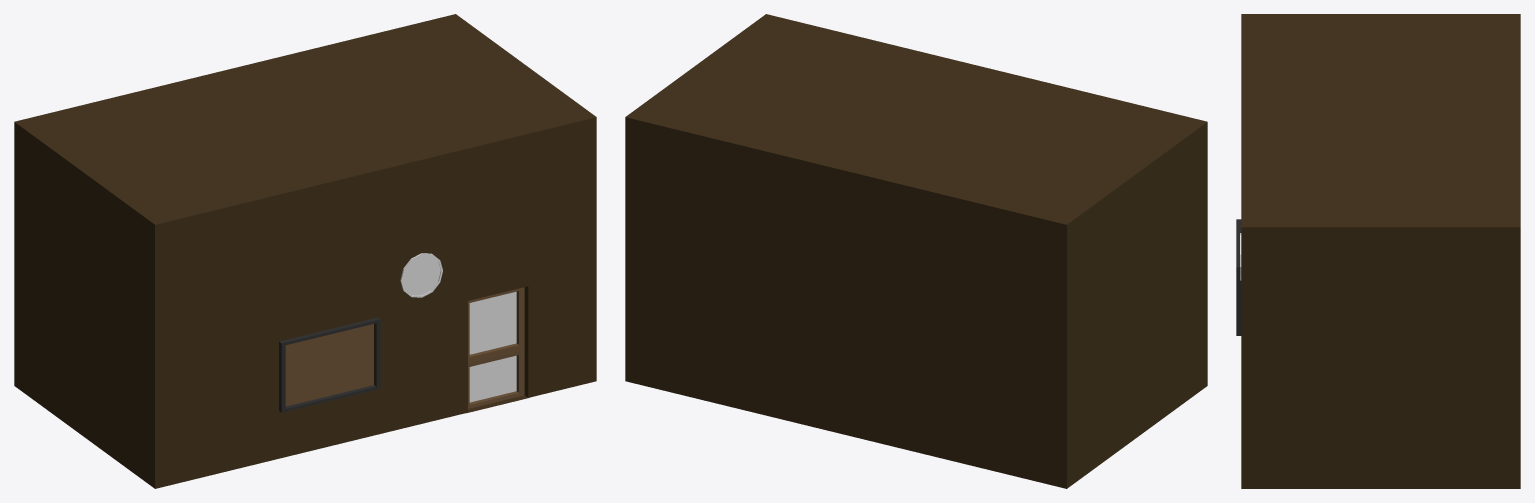
Rendered from building.fbx.
3 views of the same model, side by side, from view 1: azimuth 30°, elevation 25°; view 2: azimuth 150°, elevation 25°; view 3: azimuth 270°, elevation 25° (orthographic).
Visible parts, largest first — view 1: Cube.001; view 2: Cube.001; view 3: Cube.001.
Part boxes in pixels (left/top/right/bottom): Cube.001: left=14, top=14, right=596, bottom=488; Cube.001: left=625, top=14, right=1207, bottom=488; Cube.001: left=1236, top=14, right=1520, bottom=488.
Bounding box in the file's own units: 2108 × 1206 × 1186.
